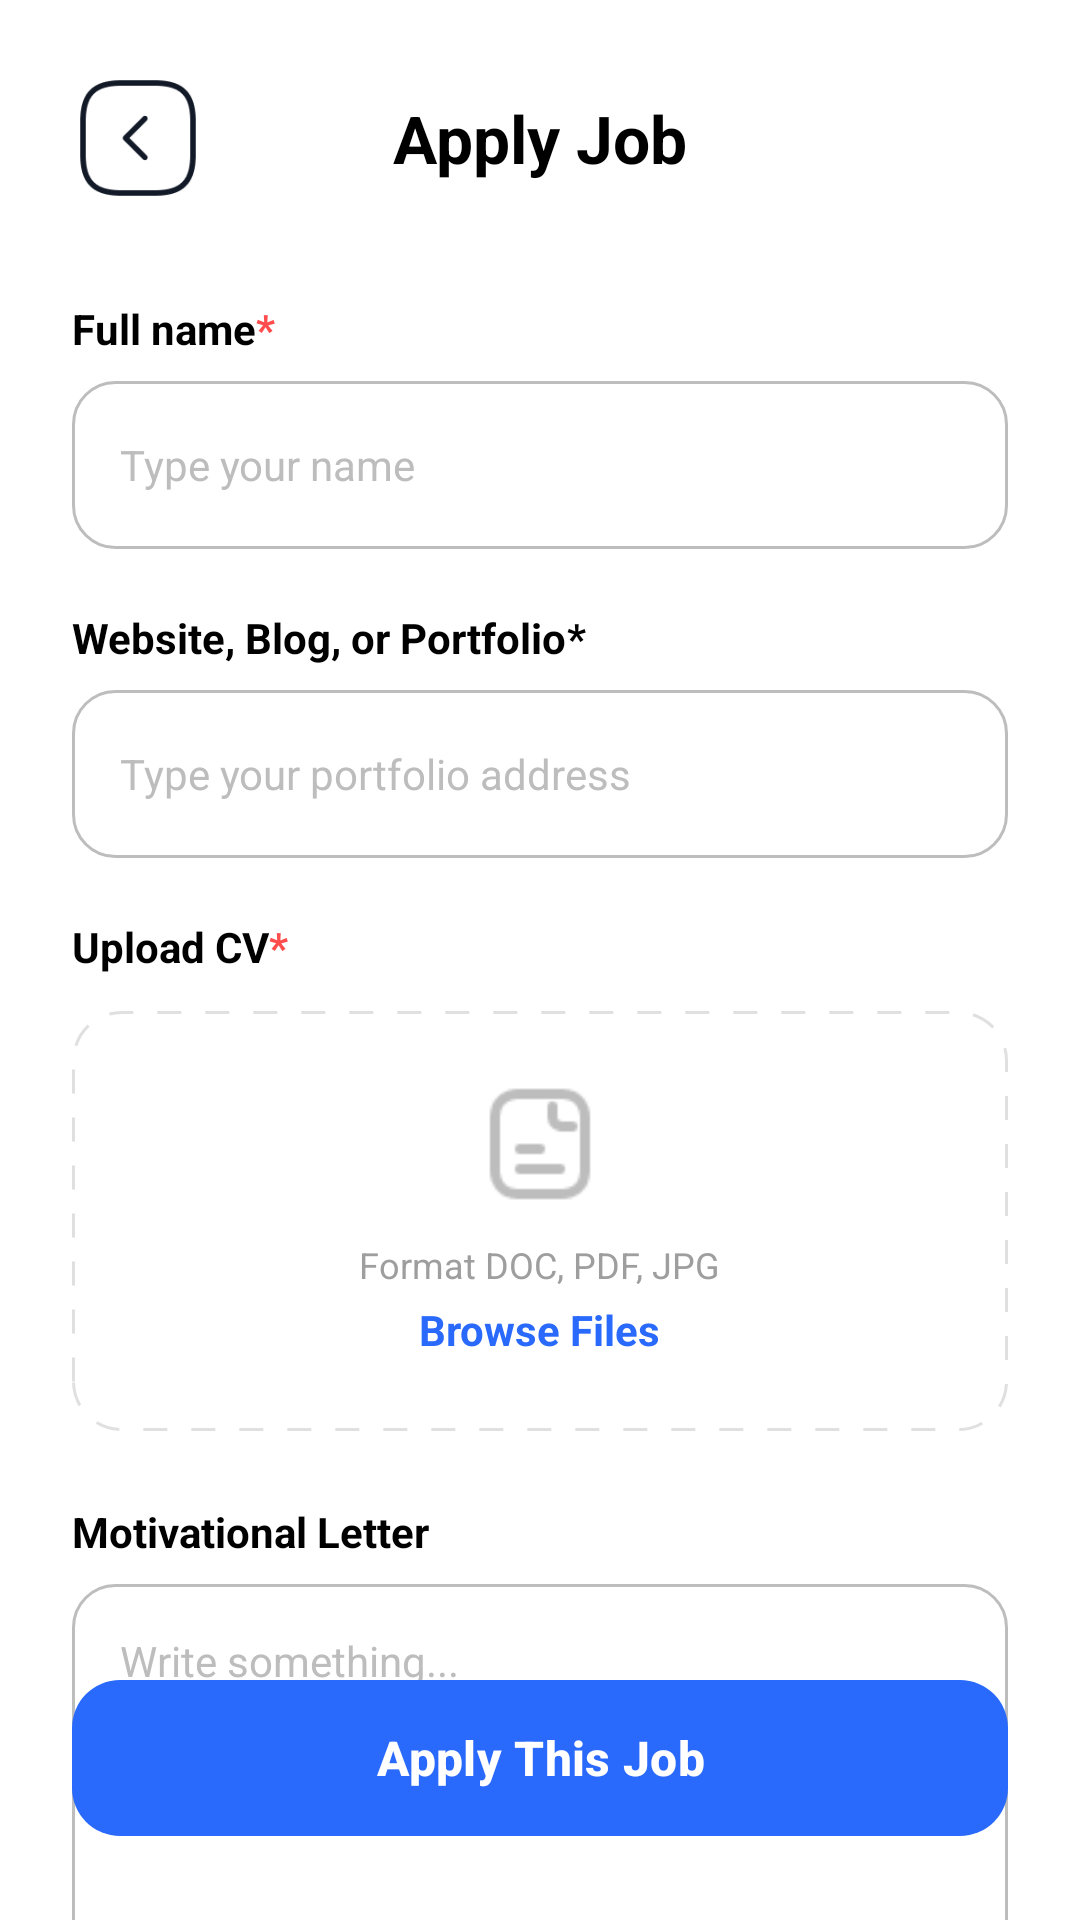

Locate icon controls on the screen. Image size 1080×1920, boxes as (x1=x1, y1=y1, x2=x2, y2=y2).
arrow back: (x1=80, y1=80, x2=196, y2=196)
